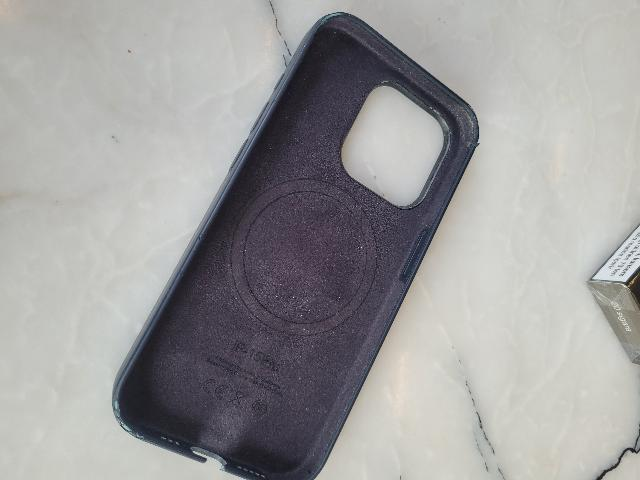Plastik: (109, 6, 479, 480)
